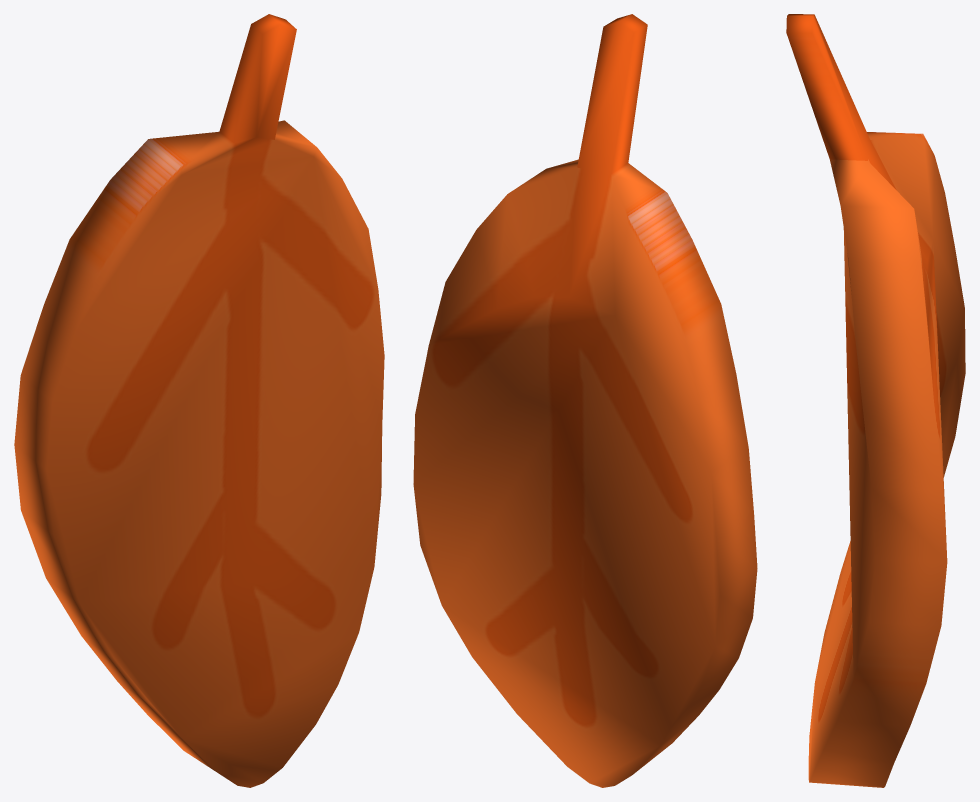
Rendered from orange_leaf.glb.
3 renders of one model, left to right at view 1: azimuth 30°, elevation 25°; view 2: azimuth 150°, elevation 25°; view 3: azimuth 270°, elevation 25°, orthographic. The views are drawn at different scales.
Visible parts, largest first — view 1: Orange_Leaf; view 2: Orange_Leaf; view 3: Orange_Leaf.
Part boxes in pixels (left/top/right/bottom): Orange_Leaf: left=14, top=14, right=384, bottom=787; Orange_Leaf: left=413, top=14, right=757, bottom=787; Orange_Leaf: left=786, top=14, right=965, bottom=787.
Size of the model in its own units: 0.2898 by 0.6469 by 0.1354.
Materials: 1 (1 with a texture image).
